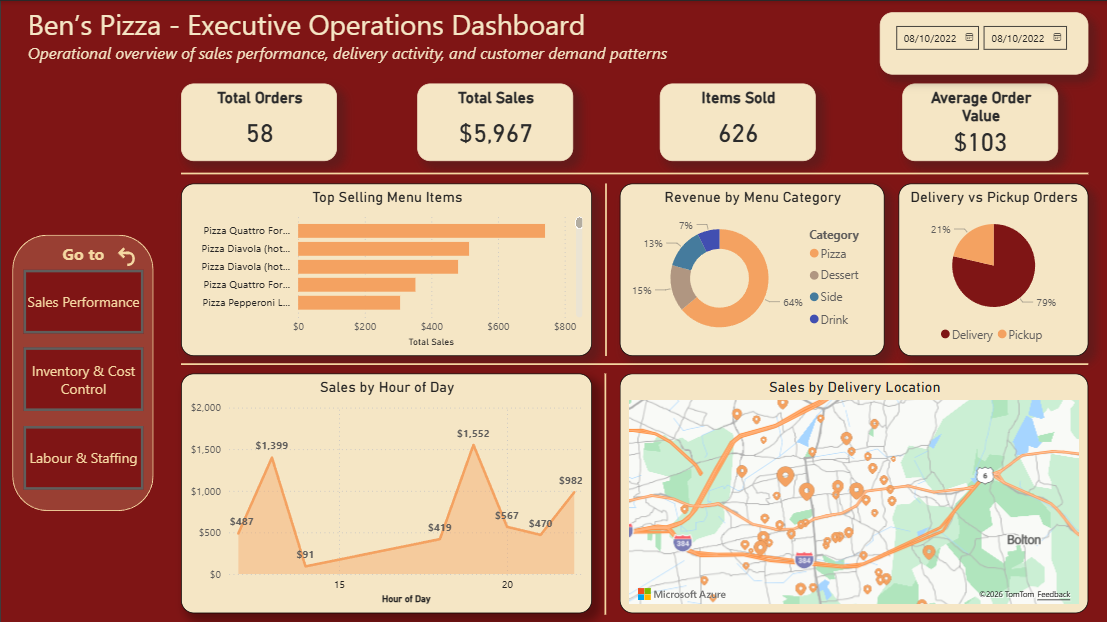

The page's visual inventory and layout, read from the dashboard file:
{"tool":"powerbi","page":{"name":"Sales Performance","canvas":[1280,720],"ordinal":1},"visuals":[{"type":"card","title":"Total Orders","fields":{"Values":["orders_dashboard.Total Orders"]},"box":[207.8,95.2,180.3,89.5],"z":0},{"type":"card","title":"Total Sales","fields":{"Values":["orders_dashboard.Total Sales"]},"box":[480,95.2,180.3,89.5],"z":1000},{"type":"card","title":"Items Sold","fields":{"Values":["orders_dashboard.Total Items"]},"box":[760,95.2,180.3,89.5],"z":2000},{"type":"card","title":"Average Order Value","fields":{"Values":["orders_dashboard.Average Order Value"]},"box":[1040,95.2,180.3,89.5],"z":3000},{"type":"donutChart","title":"Revenue by Menu Category","fields":{"Category":["orders_dashboard.Item_cat"],"Y":["orders_dashboard.Total Sales"]},"box":[714.2,210.6,305.9,199.1],"z":4000},{"type":"clusteredBarChart","title":"Top Selling Menu Items","fields":{"Category":["orders_dashboard.Item_name"],"Y":["orders_dashboard.Total Sales"]},"box":[207.8,210.6,474.7,199.1],"z":5000},{"type":"lineChart","title":"Sales by Hour of Day","fields":{"Y":["orders_dashboard.Total Sales"],"Category":["orders_dashboard.OrderHour"]},"box":[207.8,429.9,474.7,277],"z":6000},{"type":"azureMap","title":"Sales by Delivery Location","fields":{"Category":["orders_dashboard.FullAddress"],"Size":["orders_dashboard.Total Sales"]},"box":[714.2,429.9,541,277],"z":7000},{"type":"pieChart","title":"Delivery vs Pickup Orders","fields":{"Y":["orders_dashboard.Total Sales"],"Series":["orders_dashboard.Delivery Method"]},"box":[1035.9,210.6,219.3,199.1],"z":8000},{"type":"shape","box":[207.4,184.7,1047.4,28.9],"z":9000},{"type":"shape","box":[207.4,395.3,1047.4,47.6],"z":10000},{"type":"shape","box":[663.7,429.9,67.8,278.5],"z":11000},{"type":"shape","box":[13,270,163,318.9],"z":12000},{"type":"actionButton","title":"Ingredient Usage & Cost Control","box":[26,310,138.5,73.6],"z":13000},{"type":"actionButton","title":"Ingredient Usage & Cost Control","box":[26,490.5,138.5,73.6],"z":14000},{"type":"actionButton","title":"Ingredient Usage & Cost Control","box":[26,400,138.5,73.6],"z":15000},{"type":"textbox","box":[26,0,748.8,95.2],"z":16000},{"type":"actionButton","box":[129.8,279.9,34.6,30.3],"z":17000},{"type":"textbox","box":[43.3,274.1,103.9,40.4],"z":18000},{"type":"slicer","fields":{"Values":["orders_dashboard.OrderDate"]},"box":[1014.3,13,240.9,72.1],"z":19000},{"type":"shape","box":[672.3,210.6,51.9,199.1],"z":19001}]}

Visuals, with their boxes in screenshot pixels (x1, y1, x2, y2), scaled from the page's 1280x720 canvas onto the 1107x622 screenshot:
"Total Orders" card: BBox(180, 82, 336, 160)
"Total Sales" card: BBox(415, 82, 571, 160)
"Items Sold" card: BBox(657, 82, 813, 160)
"Average Order Value" card: BBox(899, 82, 1055, 160)
"Revenue by Menu Category" donutChart: BBox(618, 182, 882, 354)
"Top Selling Menu Items" clusteredBarChart: BBox(180, 182, 590, 354)
"Sales by Hour of Day" lineChart: BBox(180, 371, 590, 611)
"Sales by Delivery Location" azureMap: BBox(618, 371, 1086, 611)
"Delivery vs Pickup Orders" pieChart: BBox(896, 182, 1086, 354)
shape: BBox(179, 160, 1085, 185)
shape: BBox(179, 341, 1085, 383)
shape: BBox(574, 371, 633, 612)
shape: BBox(11, 233, 152, 509)
"Ingredient Usage & Cost Control" actionButton: BBox(22, 268, 142, 331)
"Ingredient Usage & Cost Control" actionButton: BBox(22, 424, 142, 487)
"Ingredient Usage & Cost Control" actionButton: BBox(22, 346, 142, 409)
textbox: BBox(22, 0, 670, 82)
actionButton: BBox(112, 242, 142, 268)
textbox: BBox(37, 237, 127, 272)
slicer - orders_dashboard.OrderDate: BBox(877, 11, 1086, 74)
shape: BBox(581, 182, 626, 354)
